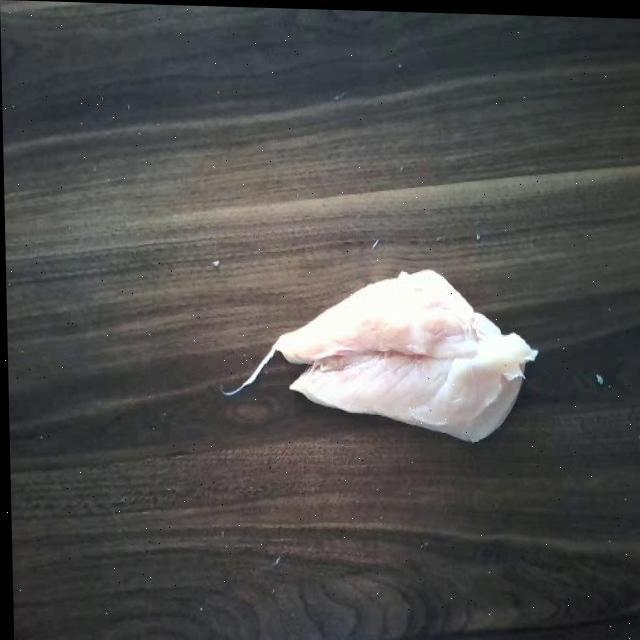breast: (279, 263, 533, 452)
